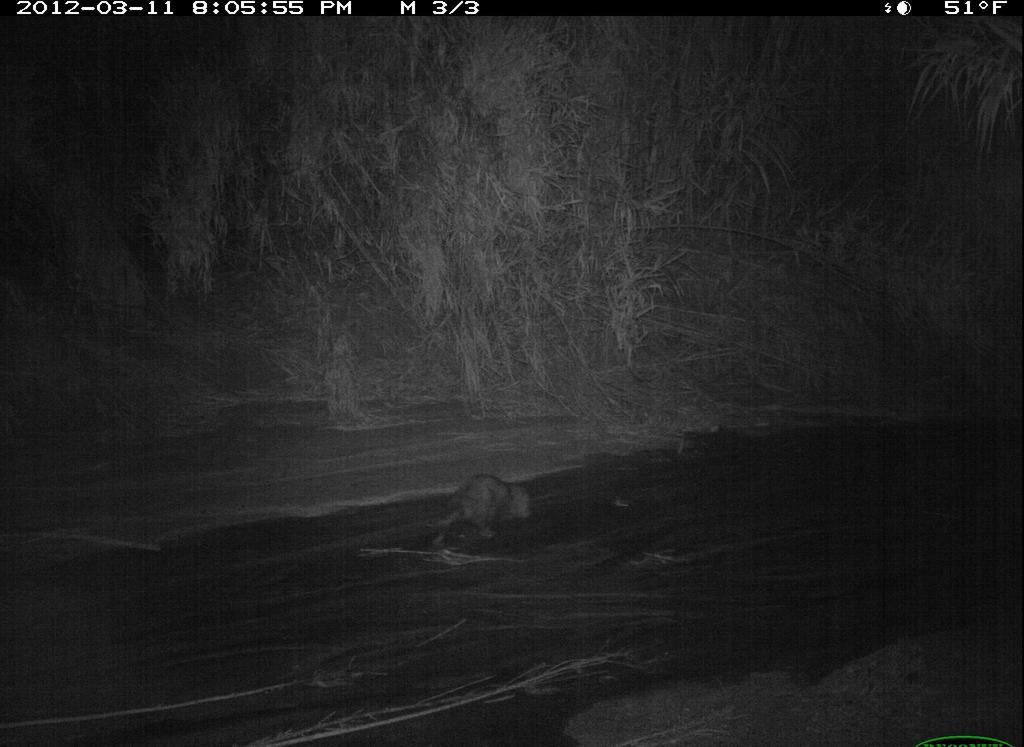opossum: (422, 472, 541, 551)
